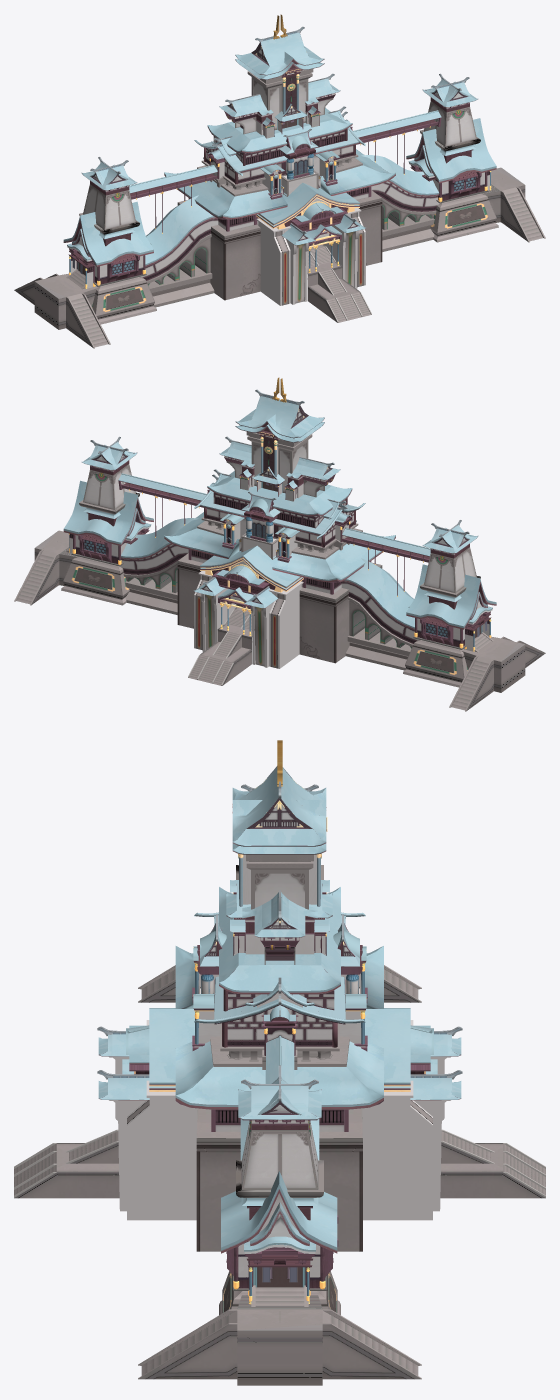
Rendered from citadel.glb.
3 renders of one model, top to bottom at view 1: azimuth 30°, elevation 25°; view 2: azimuth 150°, elevation 25°; view 3: azimuth 270°, elevation 25°, orthographic. The views are drawn at different scales.
Parts seen in each view (by area): view 1: Object_4; view 2: Object_4; view 3: Object_4.
Boxes of the visible parts, box(x1,y1,x2,y2) form: Object_4: box(14, 14, 545, 348); Object_4: box(14, 377, 545, 711); Object_4: box(14, 740, 545, 1385).
Bounding box in the file's own units: 246 × 126 × 137.
19 materials, 18 textured.
